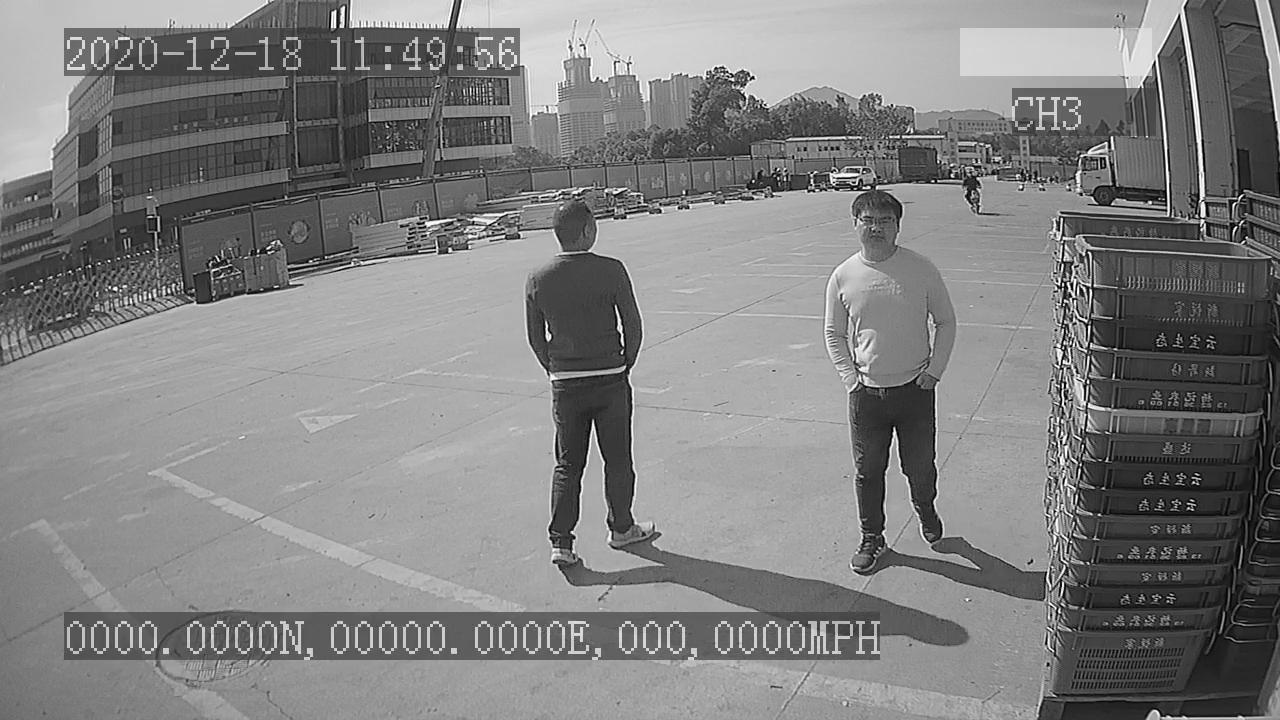person: (815, 183, 958, 579), (520, 195, 663, 576)
